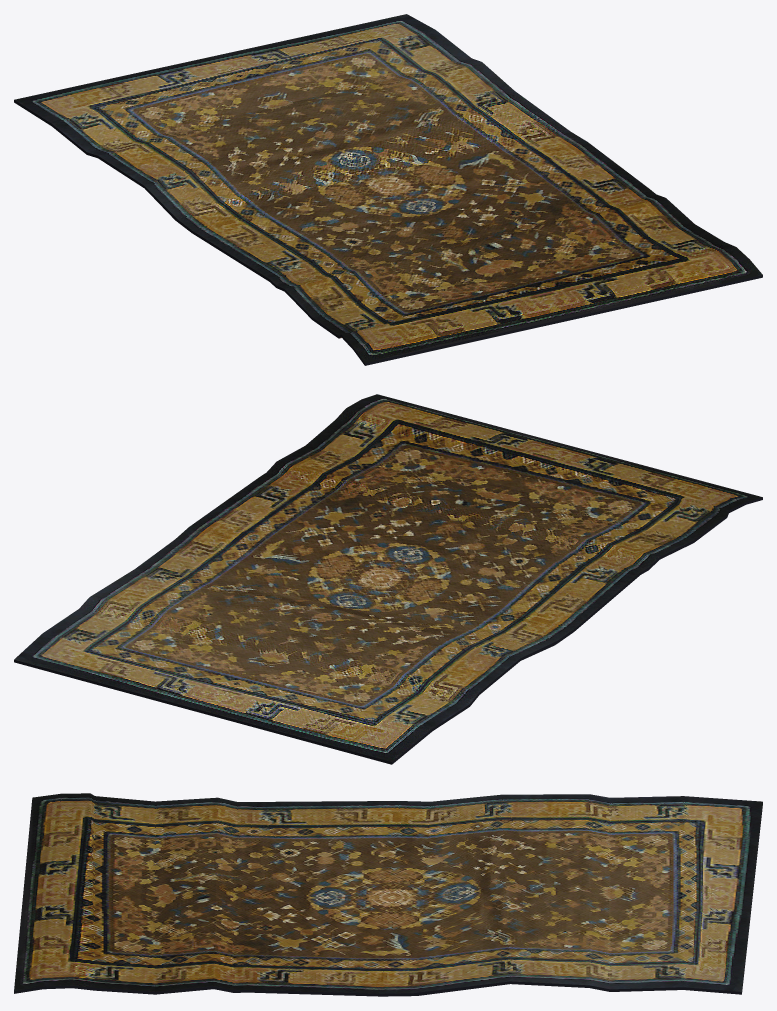
The model's file is Rug_3_JBischer.fbx.
The picture shows the model from 3 angles, top to bottom: view 1: azimuth 30°, elevation 25°; view 2: azimuth 150°, elevation 25°; view 3: azimuth 270°, elevation 25°; orthographic projection.
Parts seen in each view (by area): view 1: Cylinder.003; view 2: Cylinder.003; view 3: Cylinder.003.
Part boxes in pixels (x1,y1,x2,y2): Cylinder.003: (14, 14, 762, 365); Cylinder.003: (14, 394, 762, 764); Cylinder.003: (14, 793, 762, 996).
Size of the model in its own units: 753 by 19.23 by 1215.
